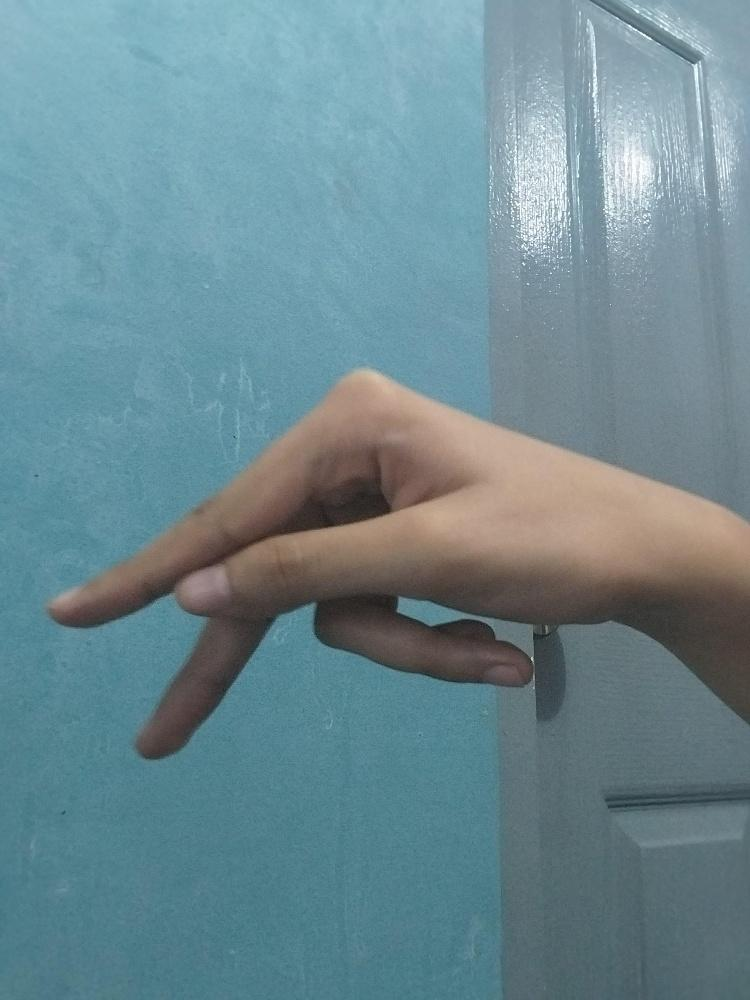p: (45, 359, 599, 759)
